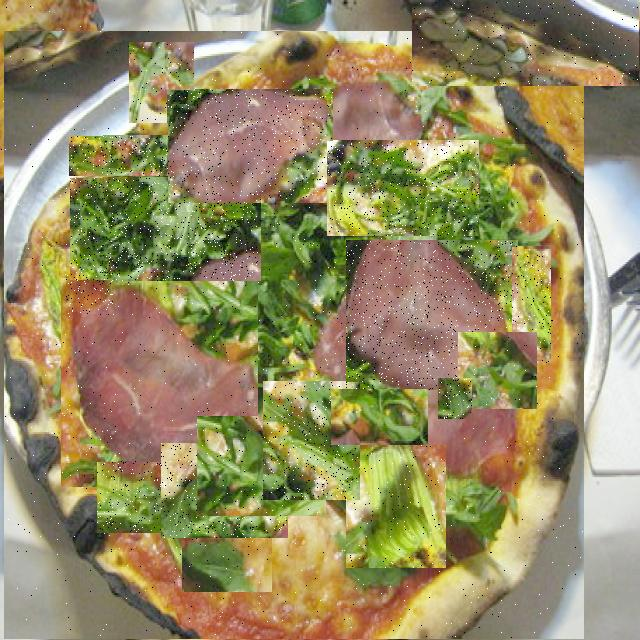Ham: (61, 279, 258, 487), (346, 241, 518, 390), (168, 90, 333, 203)
Pizza: (4, 32, 584, 638), (413, 0, 638, 86)
Rucola: (0, 0, 103, 198), (70, 178, 261, 281), (258, 198, 345, 372), (327, 141, 479, 236), (197, 416, 326, 516), (346, 446, 446, 568), (161, 443, 288, 538), (264, 382, 362, 500), (458, 332, 537, 409), (332, 389, 428, 445), (130, 43, 196, 123), (182, 538, 272, 592), (97, 462, 164, 533), (512, 247, 551, 363), (69, 136, 174, 176), (66, 274, 115, 316), (438, 378, 472, 419)
